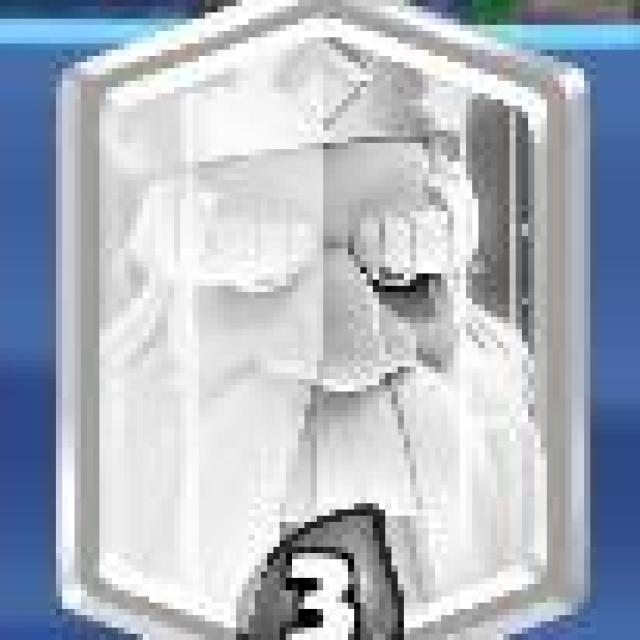Royal_Ghost: (51, 0, 586, 640)
